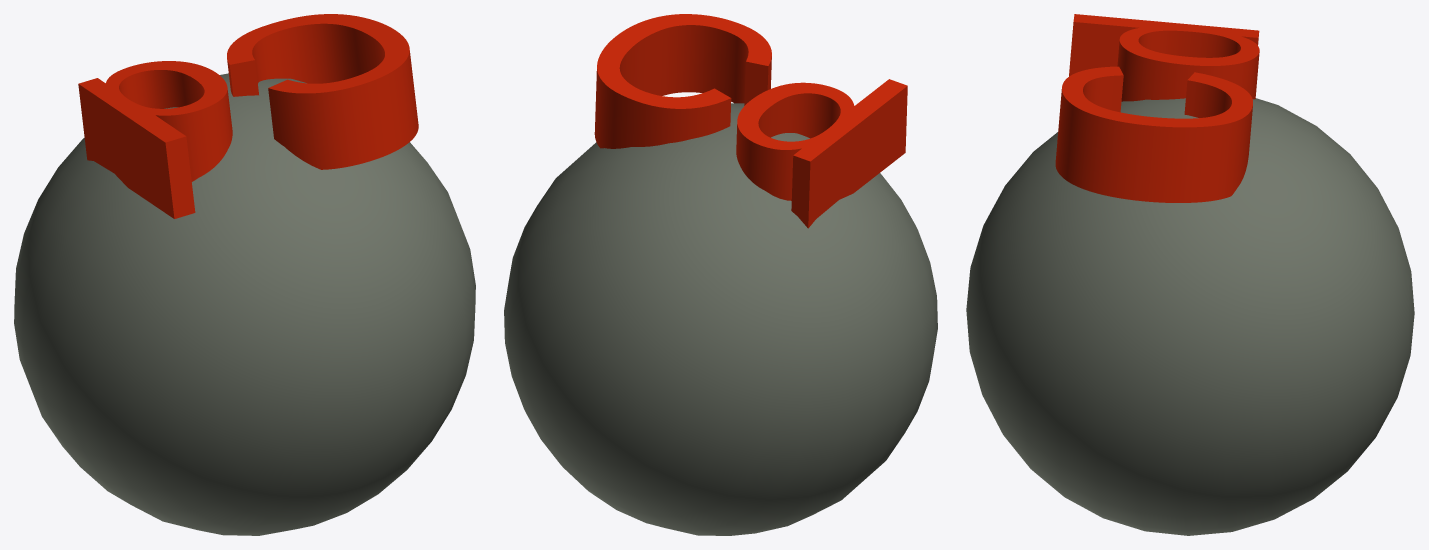
3 renders of one model, left to right at view 1: azimuth 30°, elevation 25°; view 2: azimuth 150°, elevation 25°; view 3: azimuth 270°, elevation 25°, orthographic. The views are drawn at different scales.
Visible parts, largest first — view 1: Cd; view 2: Cd; view 3: Cd.
Part boxes in pixels (left/top/right/bottom): Cd: left=14, top=14, right=475, bottom=535; Cd: left=504, top=14, right=937, bottom=535; Cd: left=966, top=14, right=1414, bottom=535.
Size of the model in its own units: 38.64 by 43.22 by 38.71.
